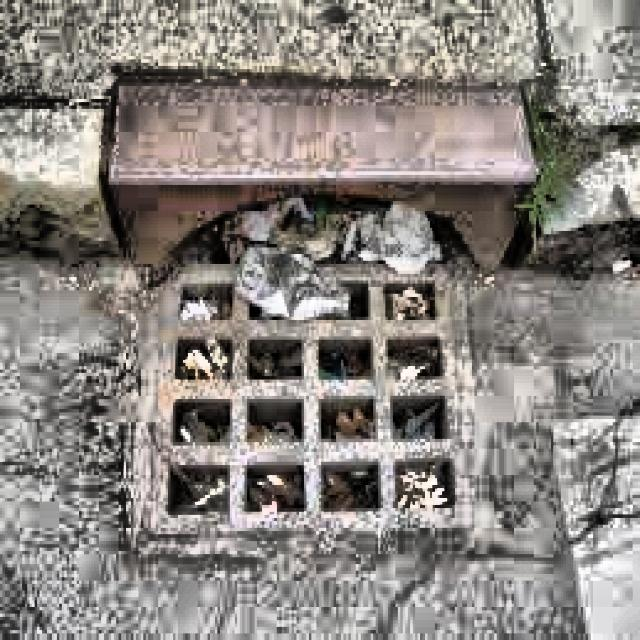clogged_drains: (101, 73, 536, 541)
